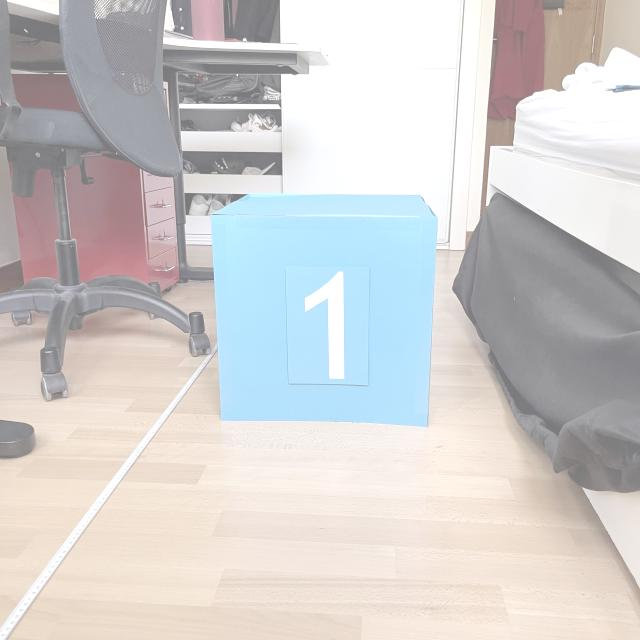box: (205, 188, 441, 430)
